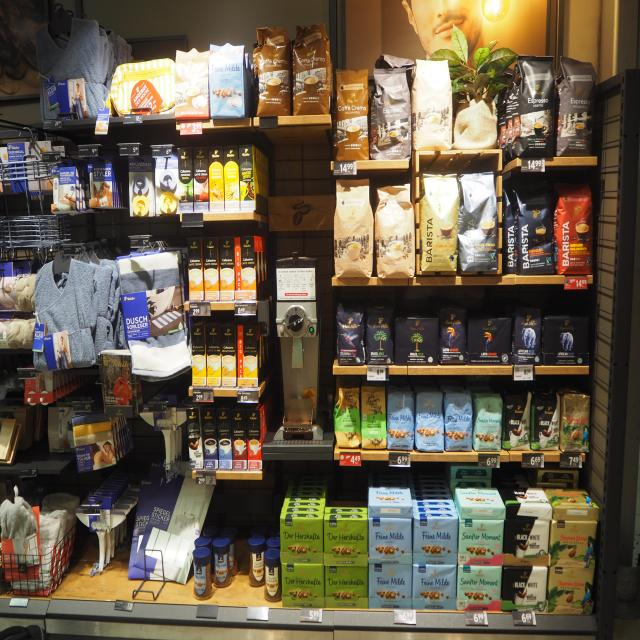AB Bohne: (513, 308, 542, 365)
AB Gemahlen: (542, 314, 590, 364)
Athiopien Bohne: (333, 386, 360, 450)
Athiopien Gemahlen: (360, 386, 388, 452)
BM Bohne: (364, 302, 392, 366)
BM Gemahlen: (392, 315, 438, 366)
BW Bohne: (531, 390, 560, 450), (502, 392, 531, 451)
BW Gemahlen: (501, 564, 548, 613), (503, 519, 551, 564), (498, 487, 553, 508)
Barista CB: (418, 172, 461, 278)
Barista CC: (459, 168, 499, 276)
Barista Espresso: (512, 184, 556, 275)
Barista Kolumbien: (554, 182, 594, 275)
C Fino Bohne: (335, 303, 364, 366)
CC Mild: (332, 178, 375, 279), (375, 181, 416, 280), (410, 59, 453, 153)
CC Vollmundig: (173, 45, 209, 120)
CC Vollmundig 36 Pads: (291, 21, 332, 116), (252, 24, 290, 116), (332, 67, 369, 160)
Colombia BB Bohne: (560, 391, 590, 453)
Colombia BB Gemahlen: (547, 565, 595, 616), (549, 520, 598, 567), (544, 488, 601, 509)
Empty Shelf: (325, 482, 367, 507), (410, 488, 461, 508)
Espresso Aromatisch: (555, 59, 597, 158), (368, 67, 410, 159)
Espresso Kraftig: (512, 56, 555, 157)
FM 36 Pads: (208, 41, 250, 121)
FM Bohne: (444, 388, 473, 453), (386, 388, 415, 452), (416, 389, 444, 454)
FM Gemahlen: (413, 514, 458, 564), (368, 516, 412, 566), (368, 564, 412, 612), (412, 564, 456, 611), (368, 487, 413, 507)
FM Instant: (191, 547, 214, 602), (212, 536, 234, 588)
Herzhatfe Mundig: (322, 513, 369, 566), (279, 512, 325, 564), (324, 565, 370, 610), (281, 562, 324, 608)
LG Bohne: (439, 306, 465, 365)
LG Gemahlen: (466, 315, 512, 365)
SM Bohne: (472, 391, 502, 453)
SM Gemahlen: (456, 565, 502, 612), (458, 519, 503, 565), (455, 488, 506, 508)
Simo CC Colombia: (193, 146, 209, 211)
Simo CCMild: (237, 325, 258, 386)
Simo CCMild bigpack: (205, 324, 222, 387), (190, 324, 207, 387)
Simo CCVollmundig: (234, 236, 257, 300)
Simo CCVollmundig bigpack: (202, 236, 220, 301), (187, 237, 204, 301), (219, 237, 236, 301)
Simo Decaff: (221, 325, 237, 387)
Simo Es Brazil: (177, 147, 194, 212)
Simo Es Elegant: (246, 408, 262, 470)
Simo Es Kraft: (230, 408, 247, 470)
Simo Es Vanilla: (208, 145, 225, 212), (223, 145, 240, 212)
Simo Kaffee BW: (185, 407, 205, 469)
Simo Kaffee Kraft: (200, 406, 219, 469)
Simo Kaffee Mild: (215, 408, 232, 470)
Simo Sunrise: (239, 144, 256, 211)
